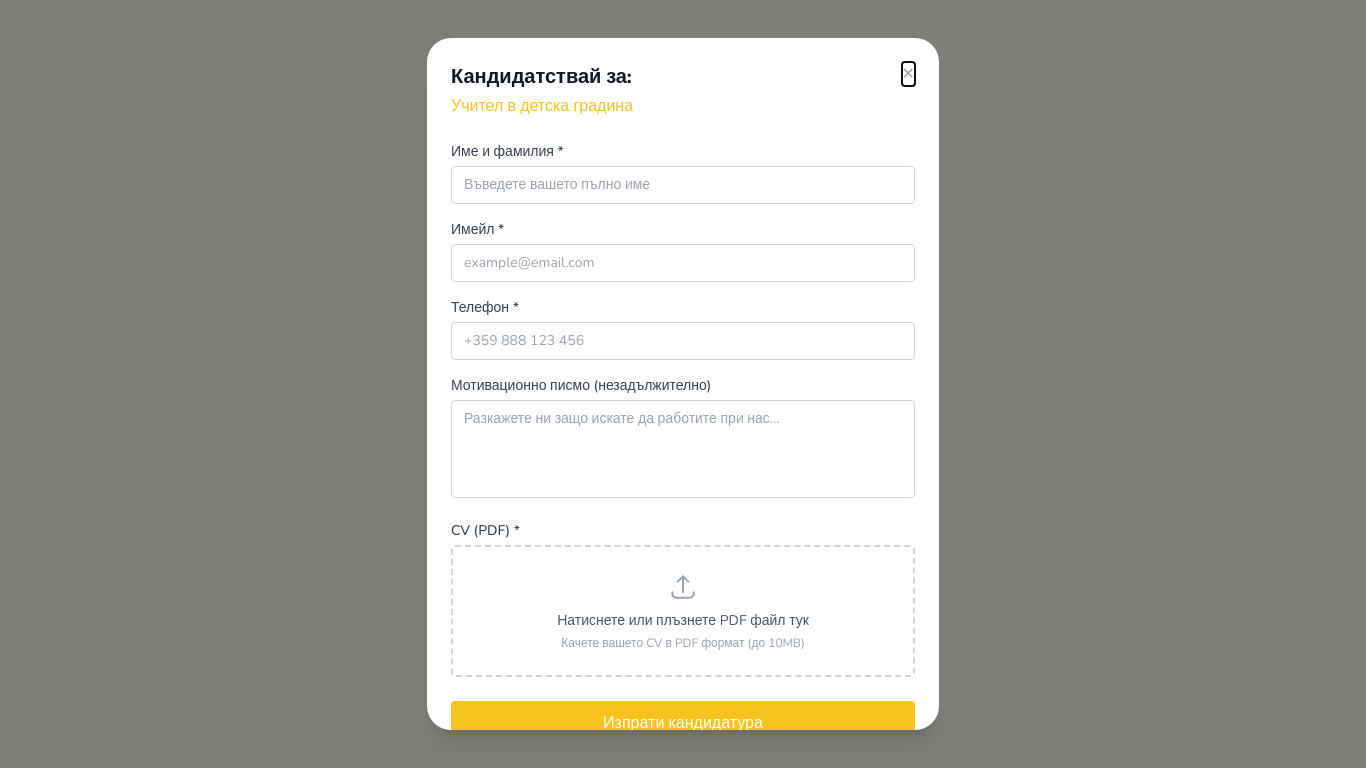
Test: JobApplicationModal › shows validation errors for empty required fields on submit
The width and height of the screenshot is (1366, 768).
Click the button "Изпрати кандидатура" at point(683, 723), box [451,701,915,745]
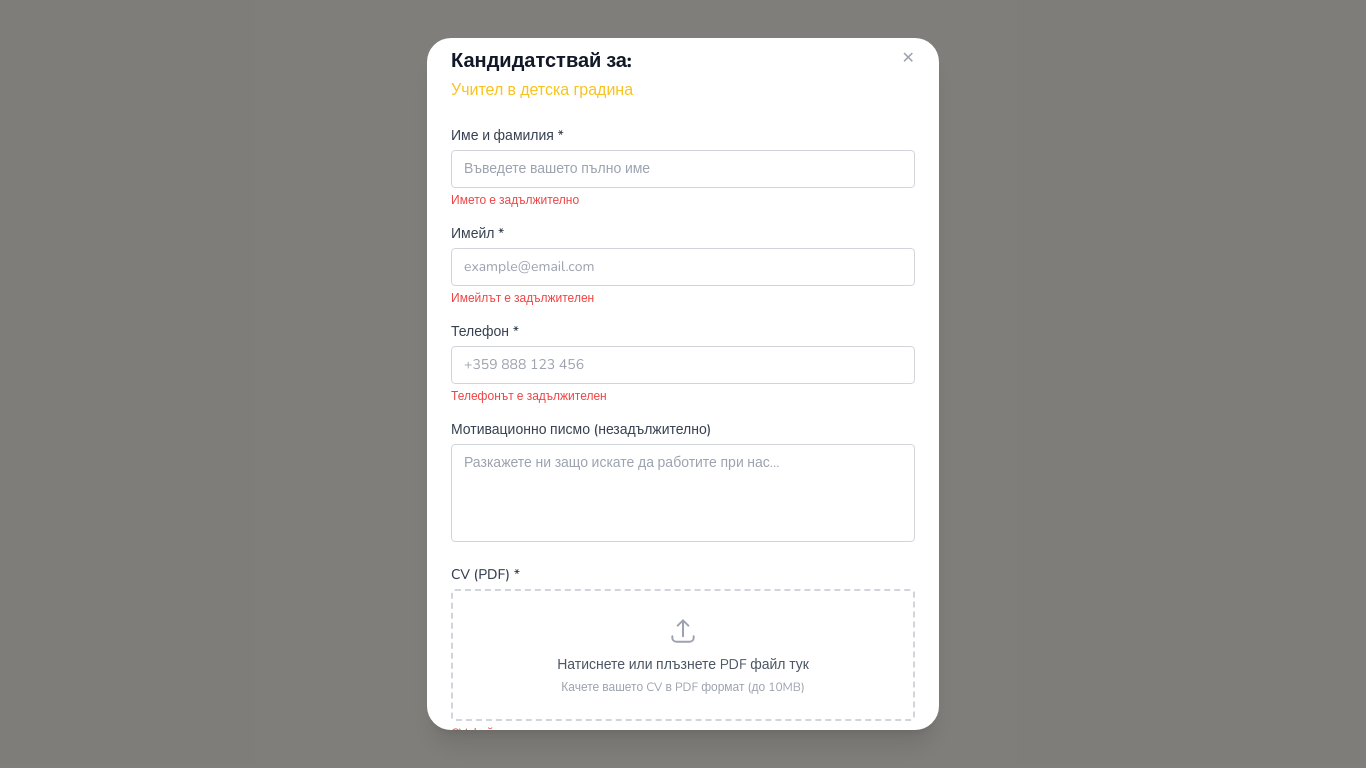
Now the text "Името е задължително" is shown, box [451,192,579,208]
Now the text "Имейлът е задължителен" is shown, box [451,290,594,306]
Now the text "Телефонът е задължителен" is shown, box [451,388,607,404]
